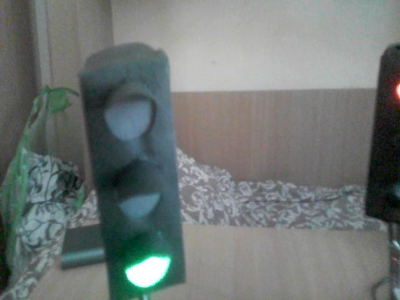trafficlight_green: (85, 57, 187, 296)
